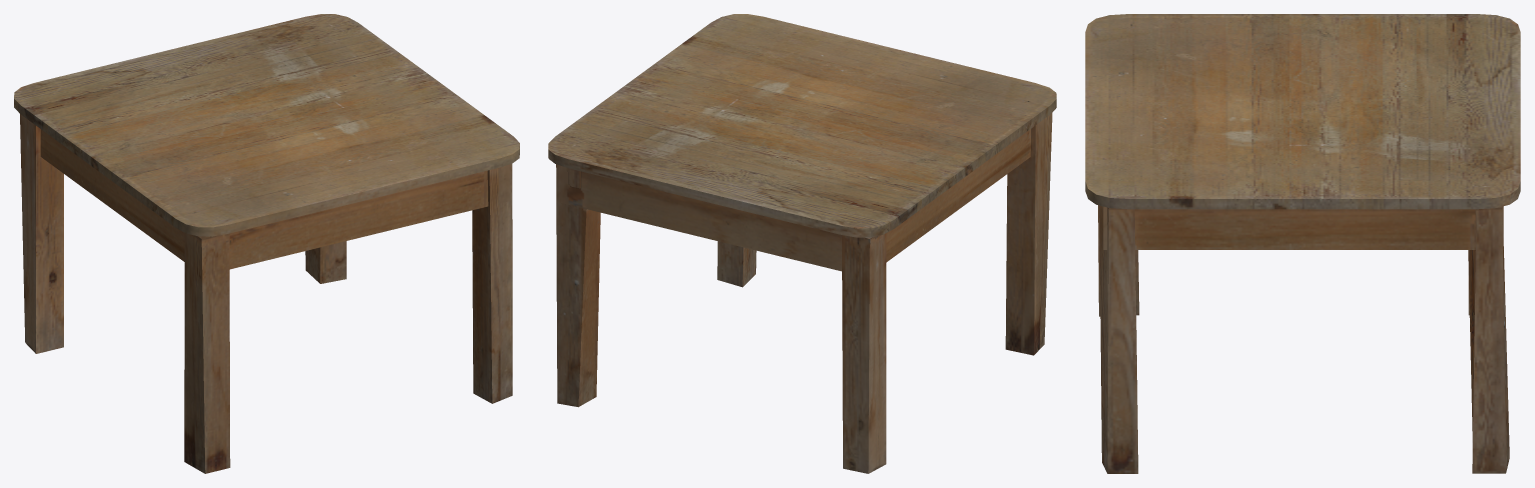
File: OU_AR_Wooden_Table_01_D.fbx
3 renders of one model, left to right at view 1: azimuth 30°, elevation 25°; view 2: azimuth 150°, elevation 25°; view 3: azimuth 270°, elevation 25°, orthographic. The views are drawn at different scales.
Parts seen in each view (by area): view 1: Box1659; view 2: Box1659; view 3: Box1659.
Boxes of the visible parts, x1,y1,x2,y2 form: Box1659: (14,14,519,473); Box1659: (548,14,1056,473); Box1659: (1085,14,1520,473).
Size of the model in its own units: 110 by 78.19 by 109.
1 material, 1 textured.
